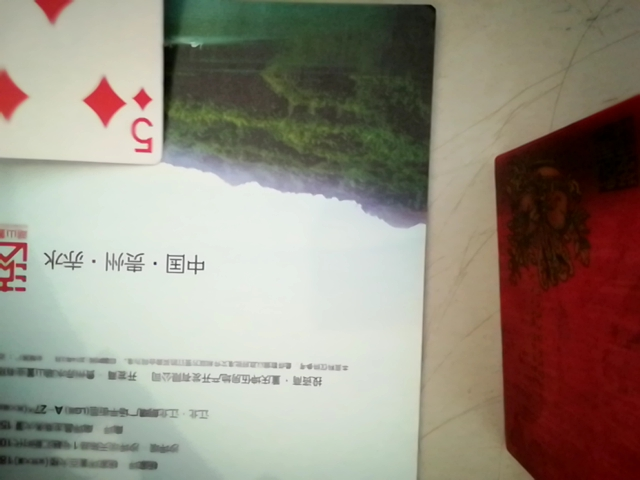fk 5: (0, 0, 178, 172)
